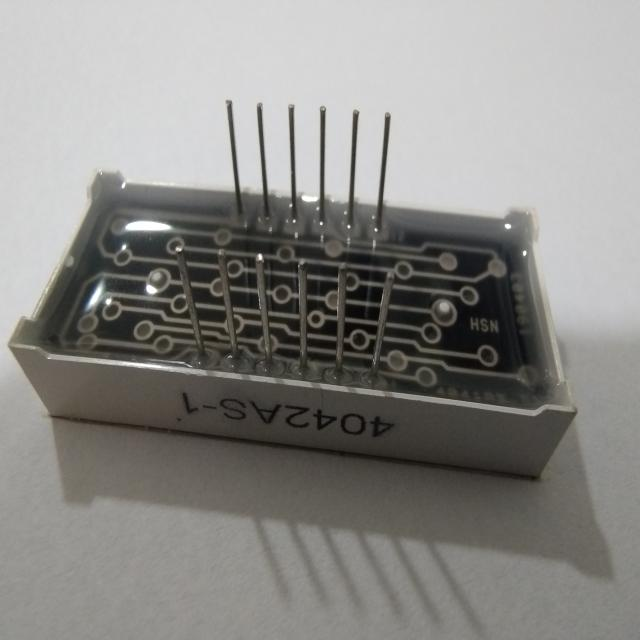7_segments_4_digits: (6, 85, 585, 492)
